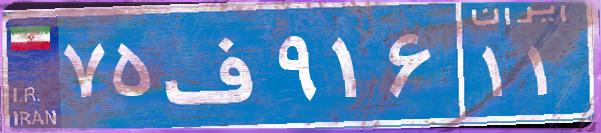1: (330, 28, 385, 110), (475, 38, 525, 113), (525, 38, 570, 115)
5: (110, 28, 158, 105)
6: (385, 28, 445, 110)
7: (57, 26, 110, 107)
9: (273, 28, 330, 110)
ف: (158, 15, 273, 115)
